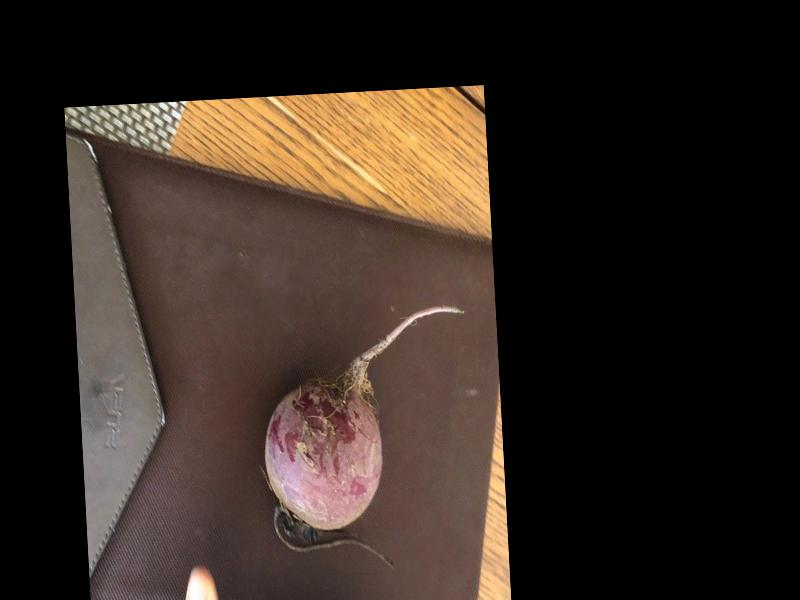Beet: (257, 304, 476, 572)
